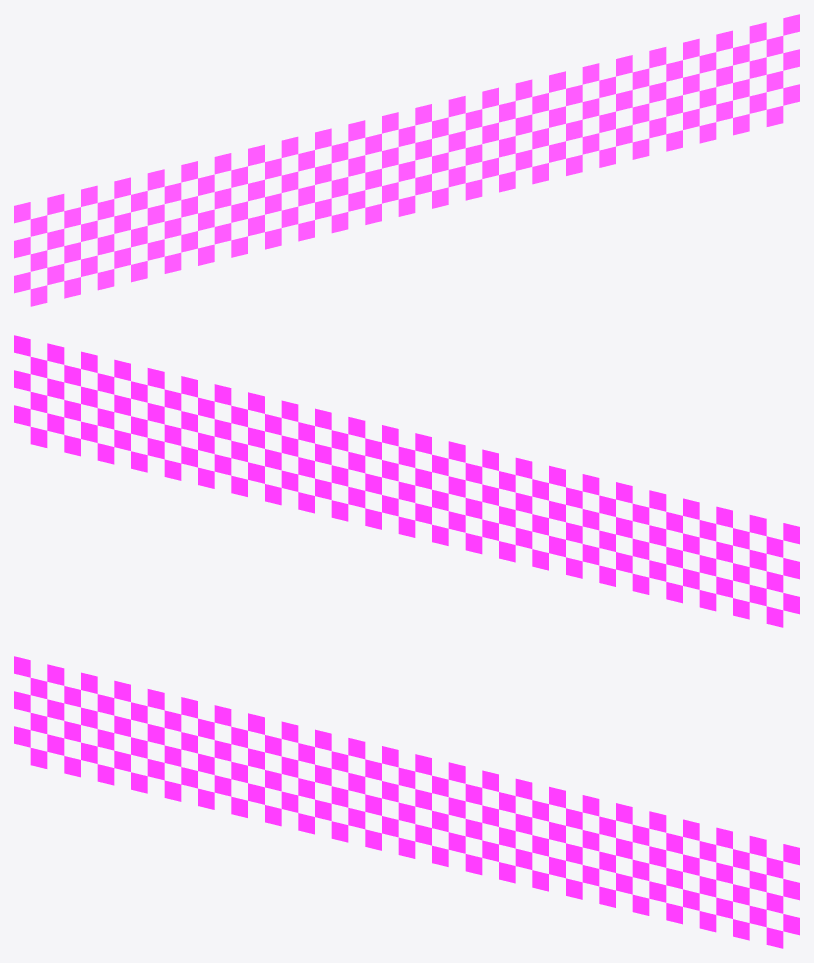
The model's file is stvorcefinishline.fbx.
The picture shows the model from 3 angles, top to bottom: view 1: azimuth 30°, elevation 25°; view 2: azimuth 150°, elevation 25°; view 3: azimuth 330°, elevation 25°; orthographic projection.
Parts seen in each view (by area): view 1: Plane; view 2: Plane; view 3: Plane.
Boxes of the visible parts, box(x1,y1,x2,y2) form: Plane: box(14, 14, 799, 306); Plane: box(14, 335, 799, 627); Plane: box(14, 656, 799, 948).
Size of the model in its own units: 3121 by 398 by 1.74e-05.
